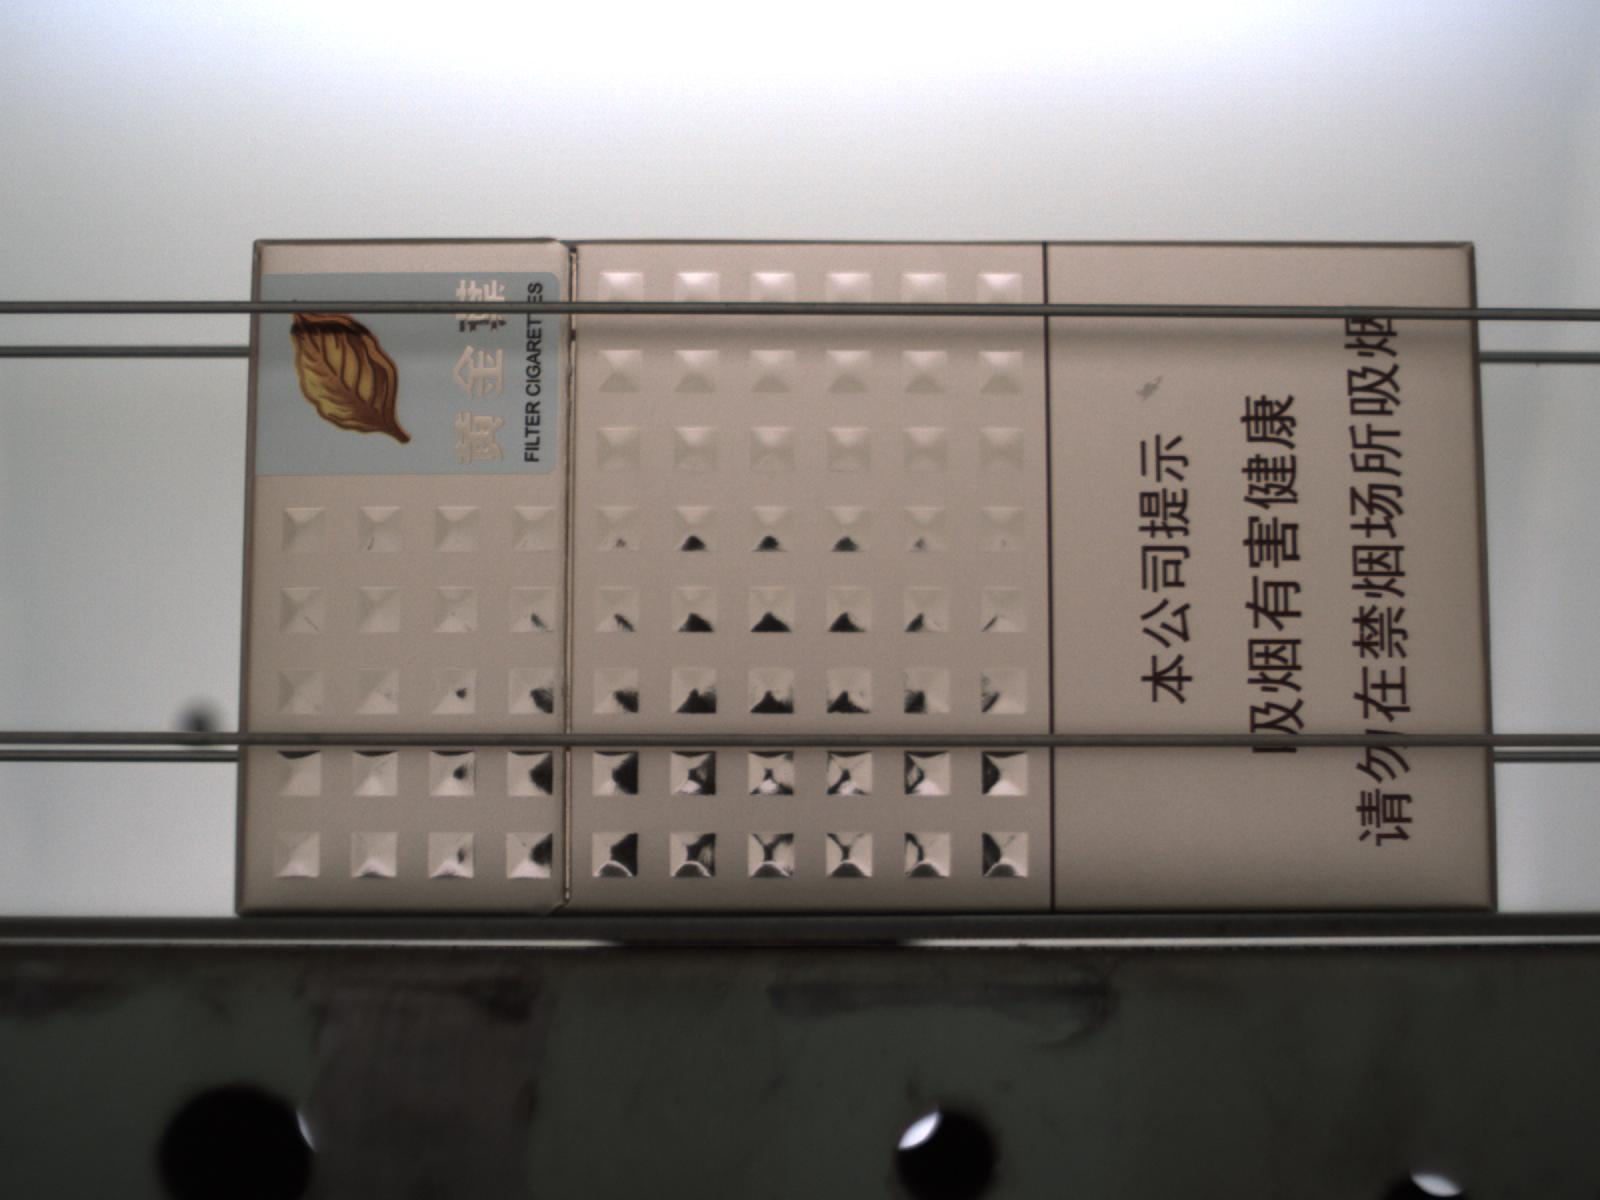dirtySpot: (1136, 374, 1167, 401)
